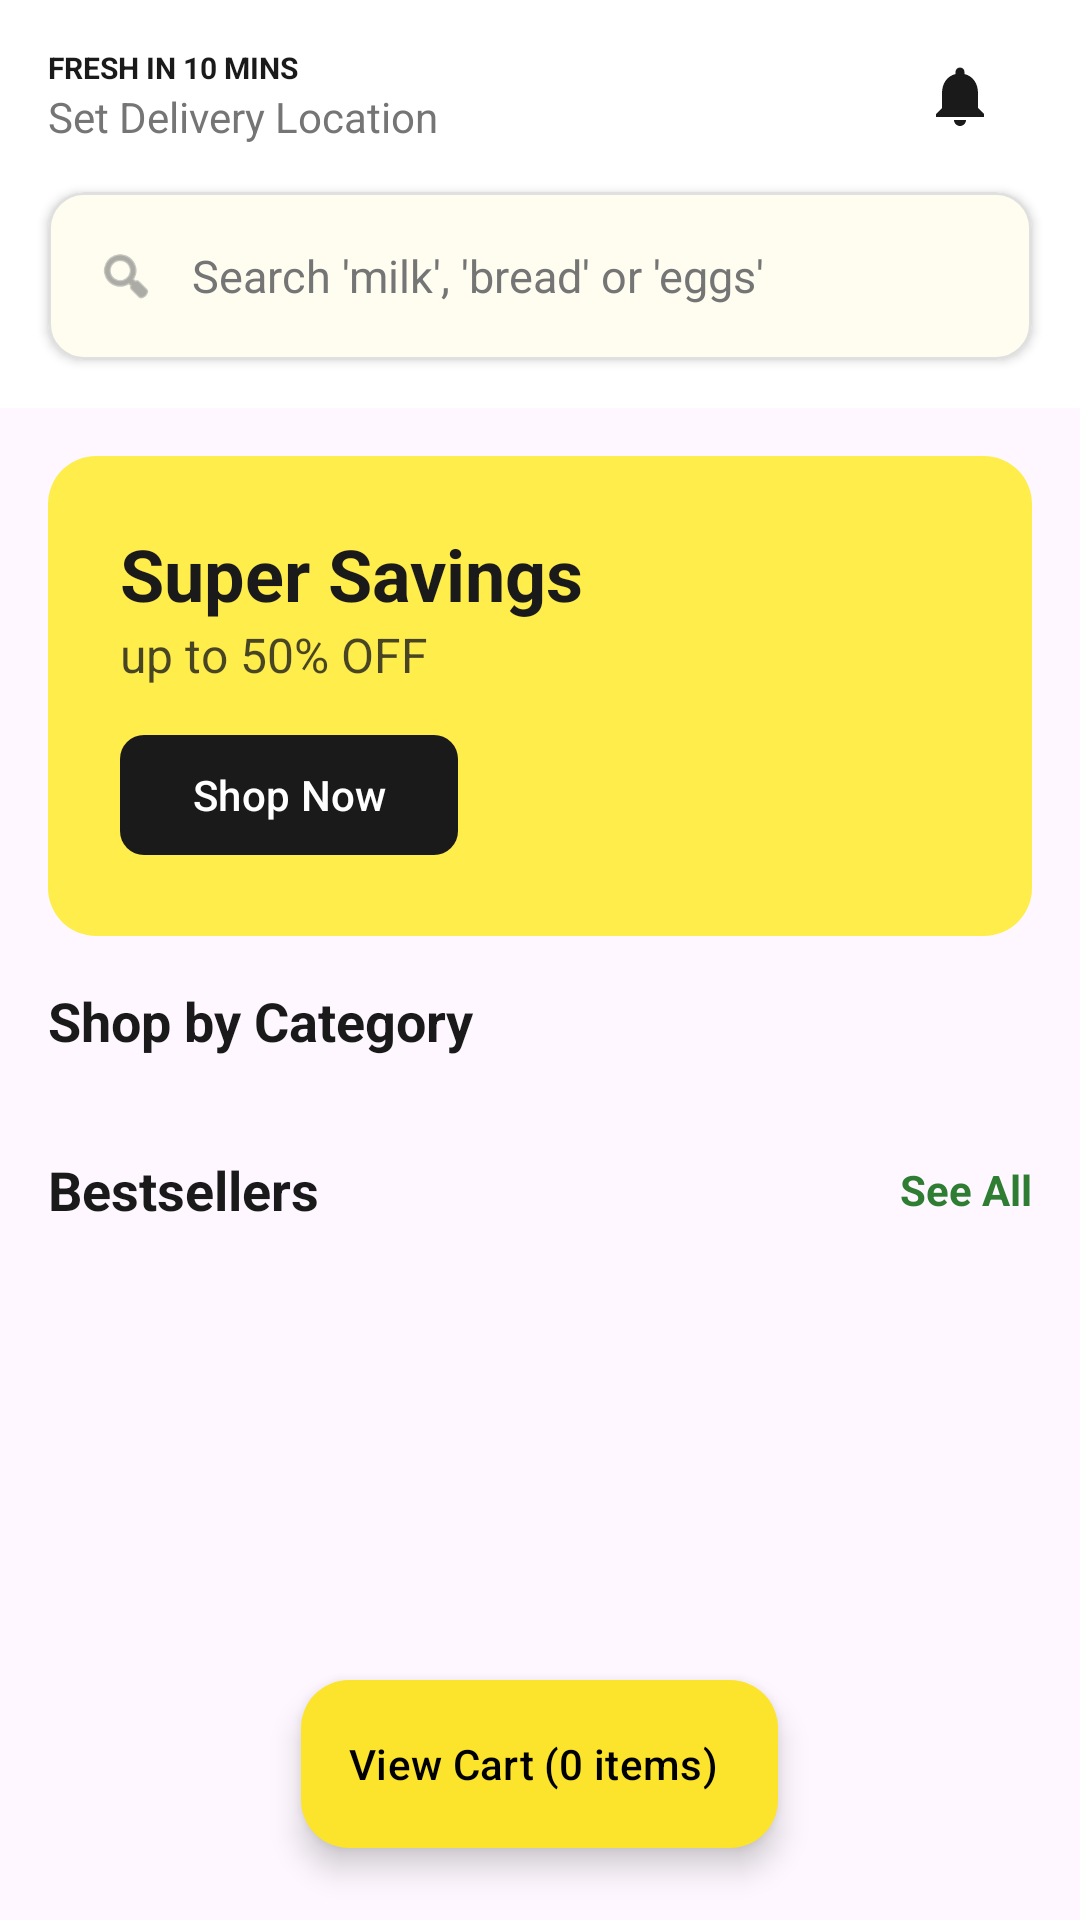

Named icons in this screenshot (1080×1920) and their centers, (x=x, y=y):
notifications: (x=960, y=96)
